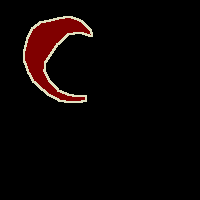hat: (24, 16, 92, 102)
